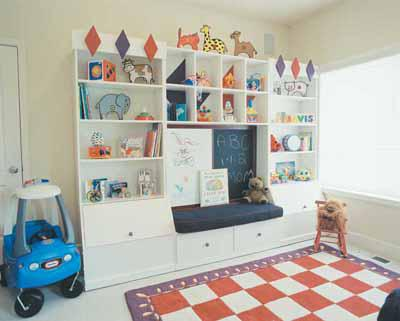Otro Obstaculo: (10, 186, 79, 313)
